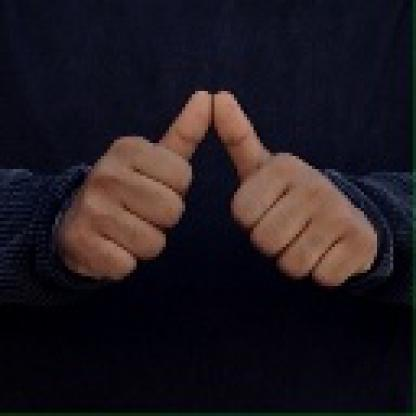A: (64, 76, 375, 294)
